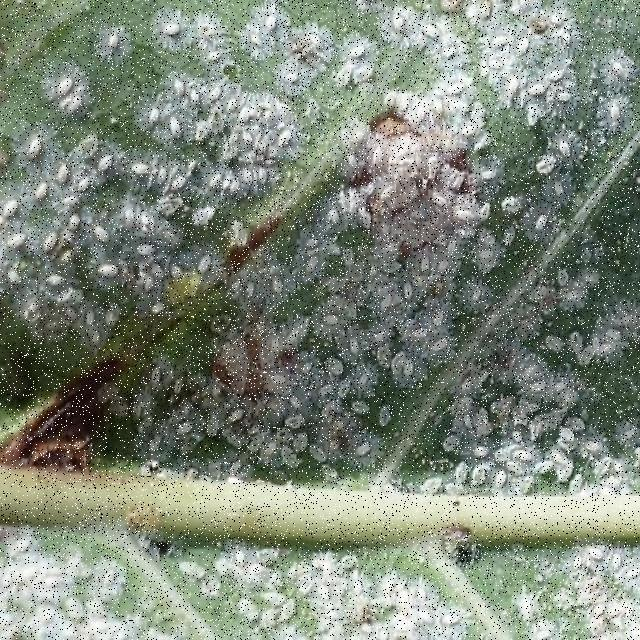Whiteflies: (8, 12, 628, 495)
